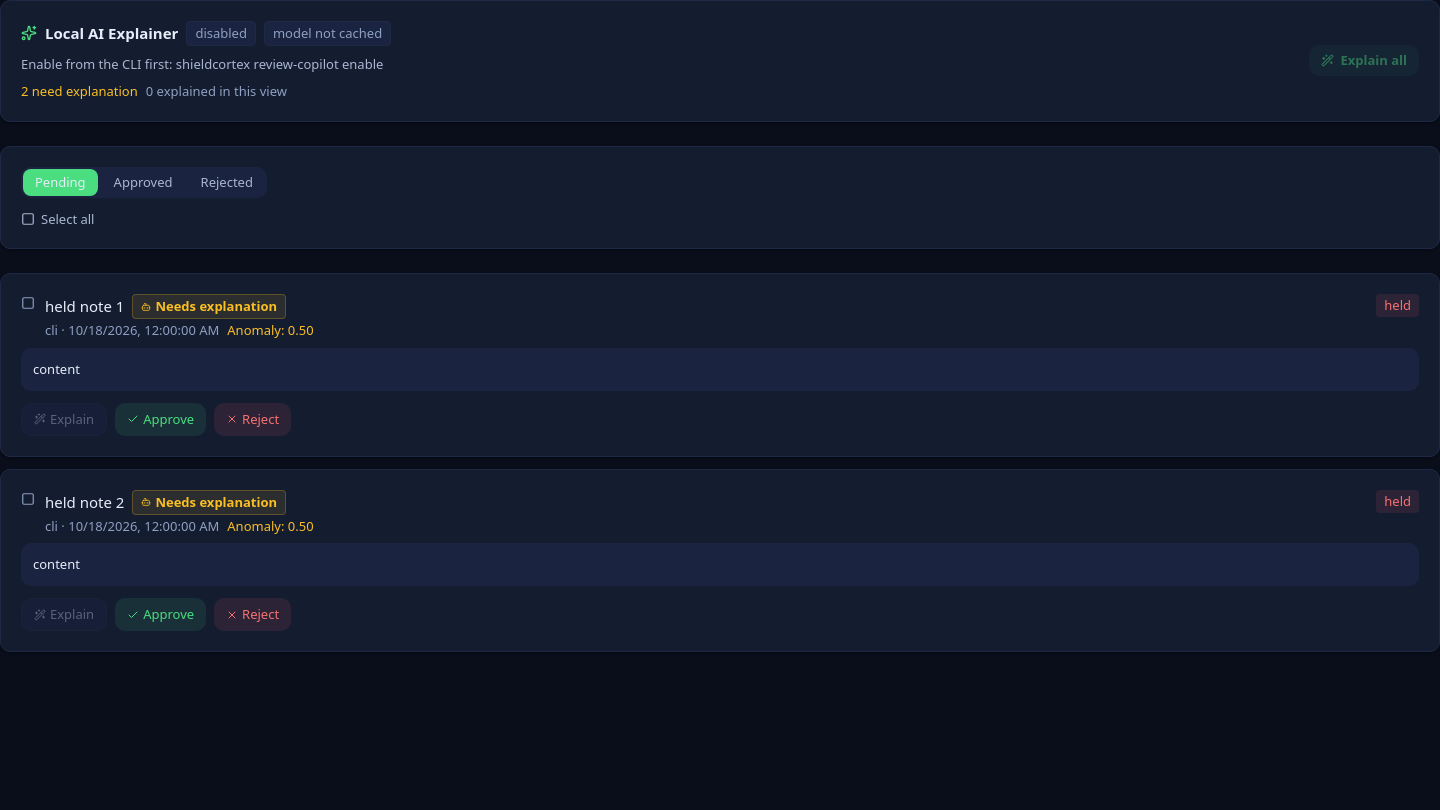
Test: QuarantineView approval notices (#824, #828) › a mixed bulk batch shows the rejected count without claiming a re-scan
Click the button "Select all" at (58,219), box [21,210,94,228]
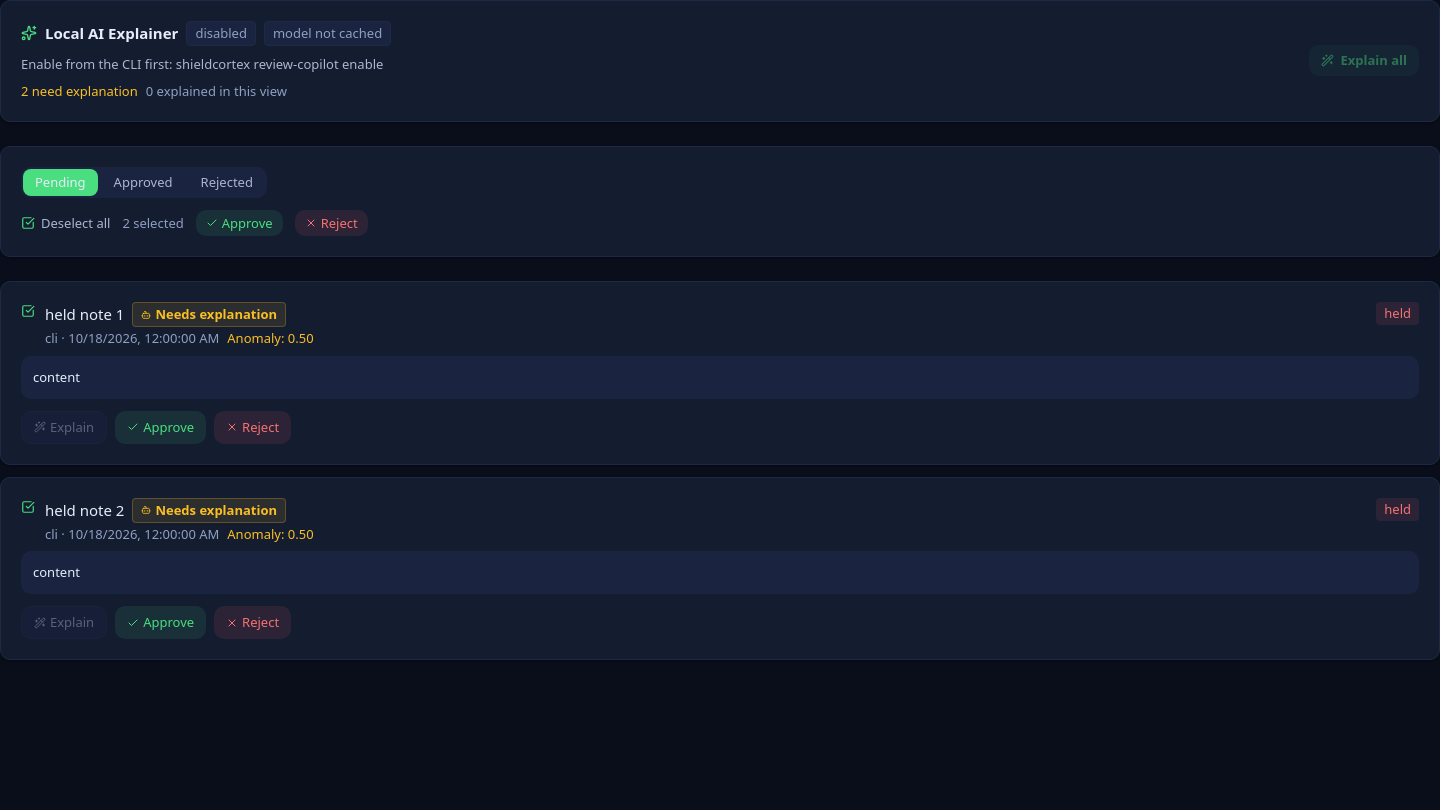
Click the button "Approve" next to "selected" at (239,223), box [196,210,283,236]
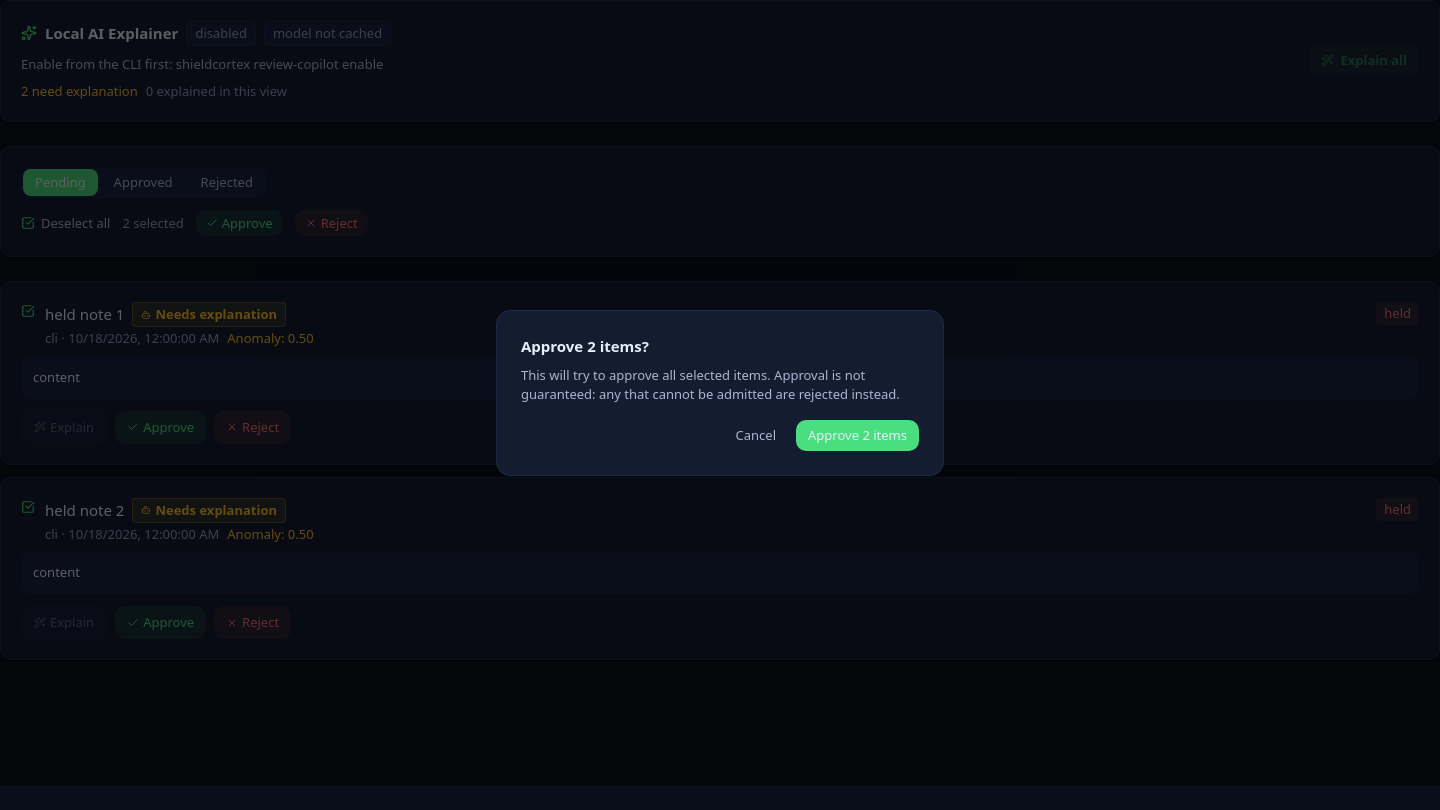
Now the text "Approval is not guaranteed: any that cannot be admitted are rejected instead." is shown, box [521,366,900,403]
Click the button "Approve 2 items" at (858,435), box [796,420,919,451]
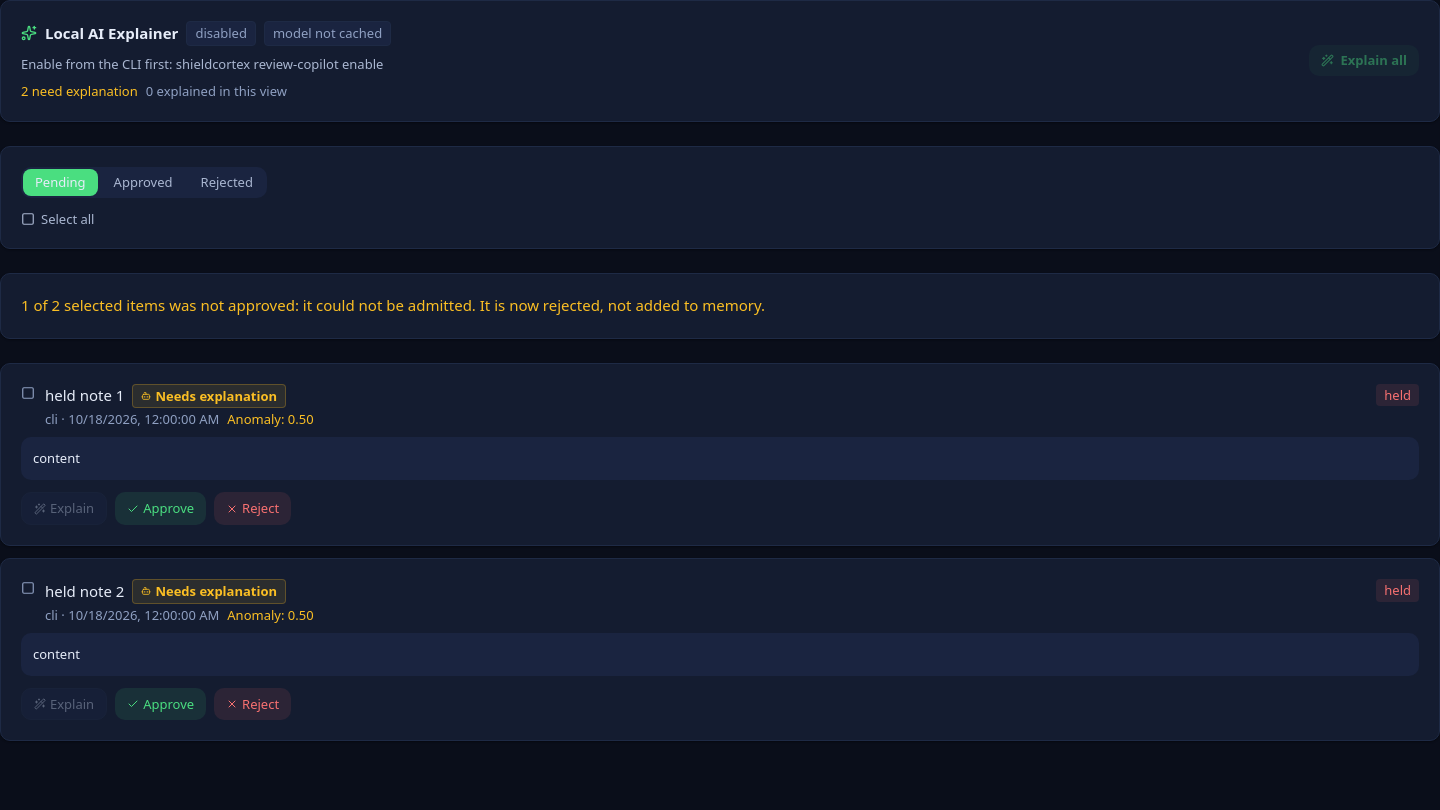
Expected: the message does not show "re-scan", [0,273,1439,339]
Now the message shows "1 of 2 selected items was not approved: it could not be admitted. It is now rejected, not added to memory.", box [21,295,765,315]
